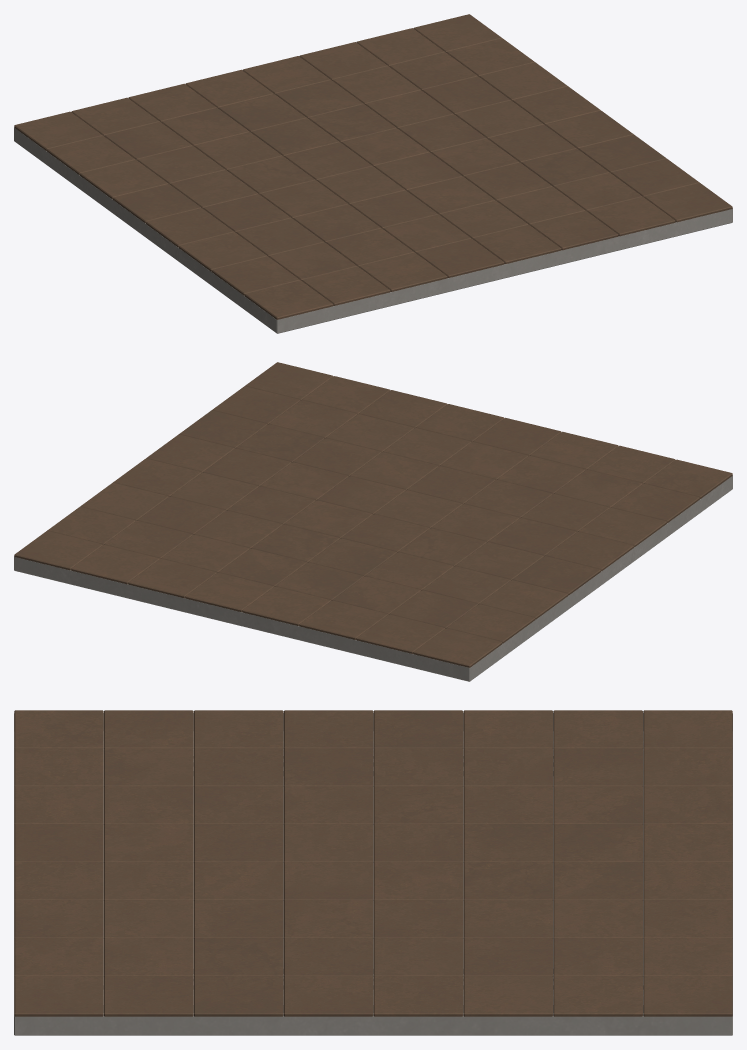
File: SK1 CEILING LARGE.fbx
3 renders of one model, top to bottom at view 1: azimuth 30°, elevation 25°; view 2: azimuth 150°, elevation 25°; view 3: azimuth 270°, elevation 25°, orthographic. The views are drawn at different scales.
Parts seen in each view (by area): view 1: SK1 CEILING LARGE.012; view 2: SK1 CEILING LARGE.012; view 3: SK1 CEILING LARGE.012.
Part boxes in pixels (x1=…): SK1 CEILING LARGE.012: x1=14, y1=14, x2=732, y2=333; SK1 CEILING LARGE.012: x1=14, y1=362, x2=732, y2=681; SK1 CEILING LARGE.012: x1=14, y1=710, x2=732, y2=1035.
Size of the model in its own units: 400 by 13.93 by 400.
